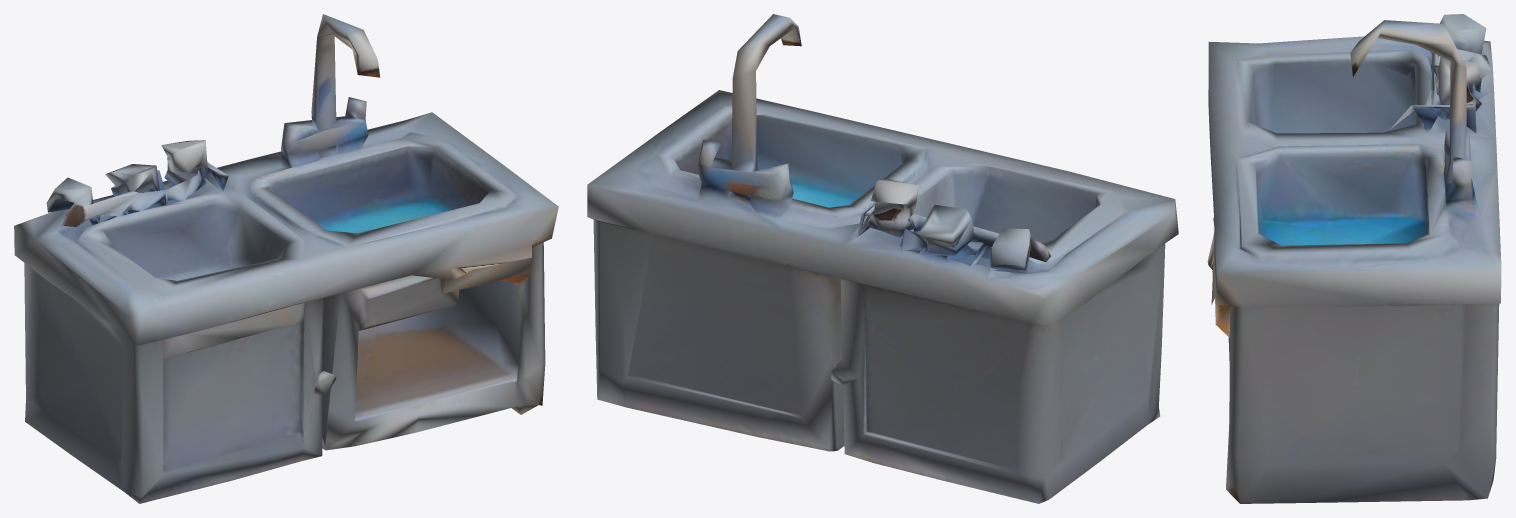
File: sink.glb
3 views of the same model, side by side, from view 1: azimuth 30°, elevation 25°; view 2: azimuth 150°, elevation 25°; view 3: azimuth 270°, elevation 25° (orthographic). The views are drawn at different scales.
Parts seen in each view (by area): view 1: tripo_node_a5120eec-01b0-4690-95f5-01cc51166041; view 2: tripo_node_a5120eec-01b0-4690-95f5-01cc51166041; view 3: tripo_node_a5120eec-01b0-4690-95f5-01cc51166041.
Boxes of the visible parts, x1,y1,x2,y2 form: tripo_node_a5120eec-01b0-4690-95f5-01cc51166041: [14, 14, 558, 503]; tripo_node_a5120eec-01b0-4690-95f5-01cc51166041: [587, 14, 1178, 503]; tripo_node_a5120eec-01b0-4690-95f5-01cc51166041: [1207, 14, 1501, 503].
Bounding box in the file's own units: 1 × 0.8125 × 0.5226.
Materials: 1 (1 with a texture image).
